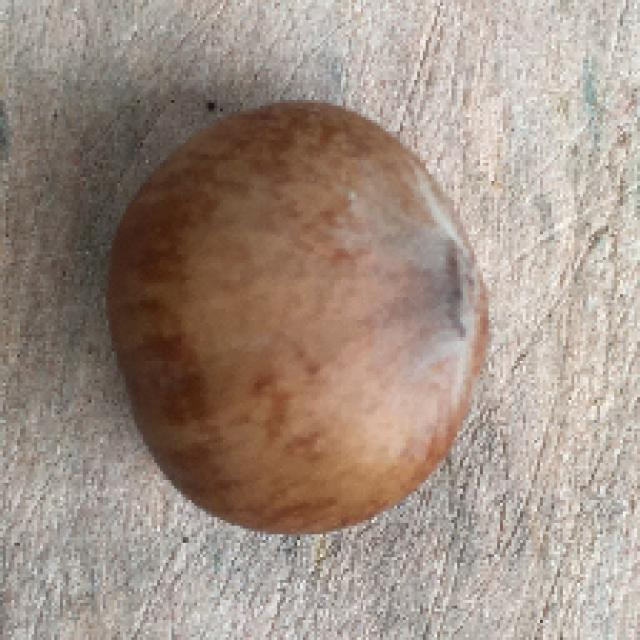qualityHazelnut: (109, 98, 497, 539)
